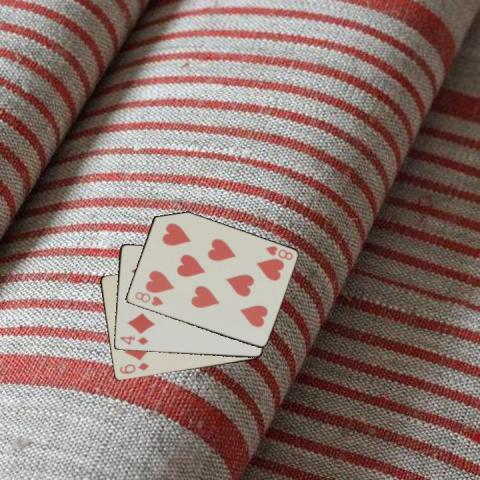4d: (117, 333, 149, 346)
6d: (117, 360, 150, 376)
8h: (131, 289, 165, 307), (263, 243, 294, 262)
